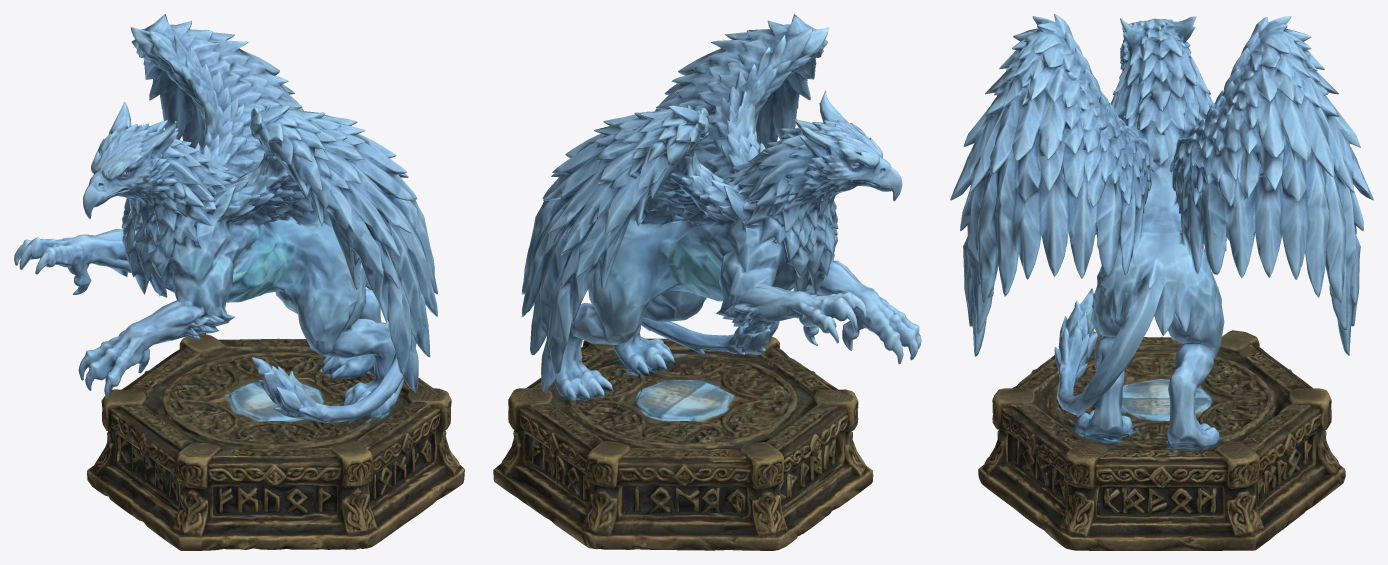
Rendered from grifo_branco.glb.
3 renders of one model, left to right at view 1: azimuth 30°, elevation 25°; view 2: azimuth 150°, elevation 25°; view 3: azimuth 270°, elevation 25°, orthographic.
Visible parts, largest first — view 1: tripo_node_8d352848-6c3e-4e37-bc94-ad3fa4aedd35; view 2: tripo_node_8d352848-6c3e-4e37-bc94-ad3fa4aedd35; view 3: tripo_node_8d352848-6c3e-4e37-bc94-ad3fa4aedd35.
Part boxes in pixels (box(x1,y1,x2,y2)): tripo_node_8d352848-6c3e-4e37-bc94-ad3fa4aedd35: box(14, 14, 464, 550); tripo_node_8d352848-6c3e-4e37-bc94-ad3fa4aedd35: box(493, 14, 921, 550); tripo_node_8d352848-6c3e-4e37-bc94-ad3fa4aedd35: box(950, 14, 1373, 550).
Size of the model in its own units: 0.847 by 0.9812 by 0.869.
1 material, 1 textured.
